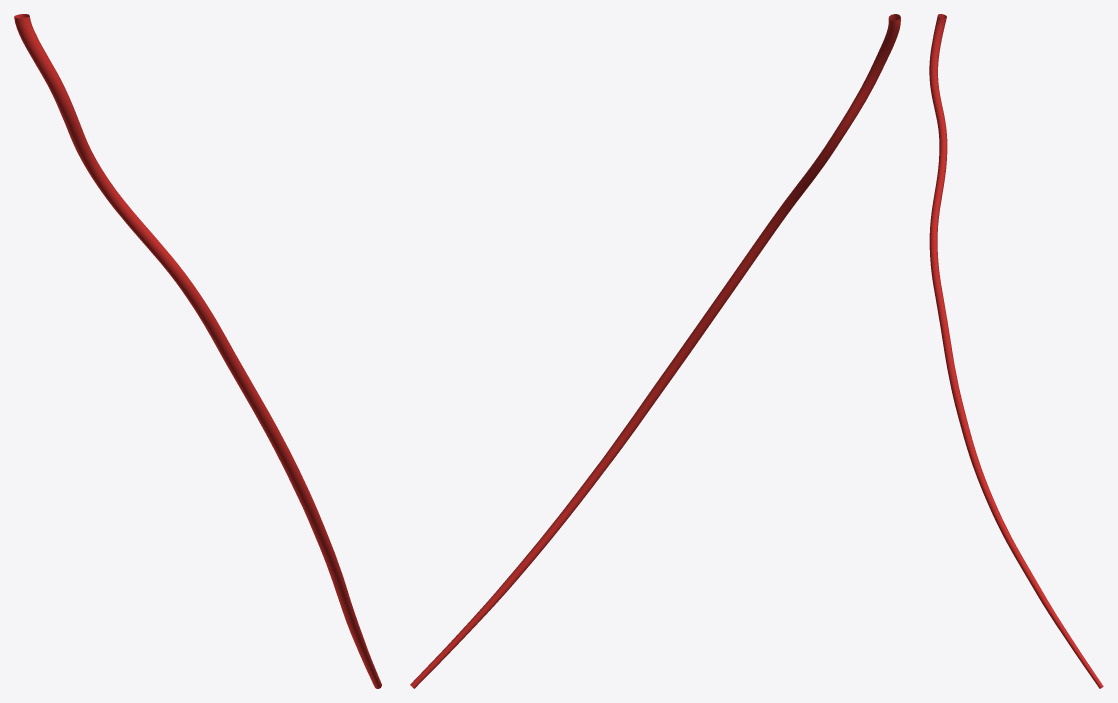
File: circulatorio-musculophrenic-veins-l.glb
The picture shows the model from 3 angles, left to right: view 1: azimuth 30°, elevation 25°; view 2: azimuth 150°, elevation 25°; view 3: azimuth 270°, elevation 25°; orthographic projection. The views are drawn at different scales.
Parts seen in each view (by area): view 1: Musculophrenic veins.l; view 2: Musculophrenic veins.l; view 3: Musculophrenic veins.l.
Part boxes in pixels (box(x1,y1,x2,y2)): Musculophrenic veins.l: box(14, 14, 381, 688); Musculophrenic veins.l: box(410, 14, 900, 688); Musculophrenic veins.l: box(929, 14, 1103, 688).
Bounding box in the file's own units: 0.0952 × 0.1621 × 0.0482.
